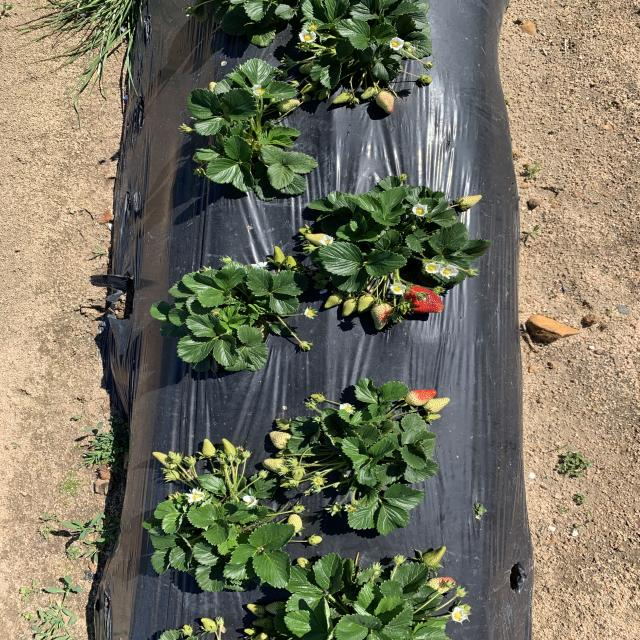unripe: (394, 282, 446, 315)
